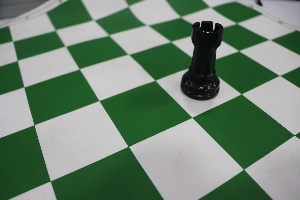black_rook: (180, 8, 223, 110)
